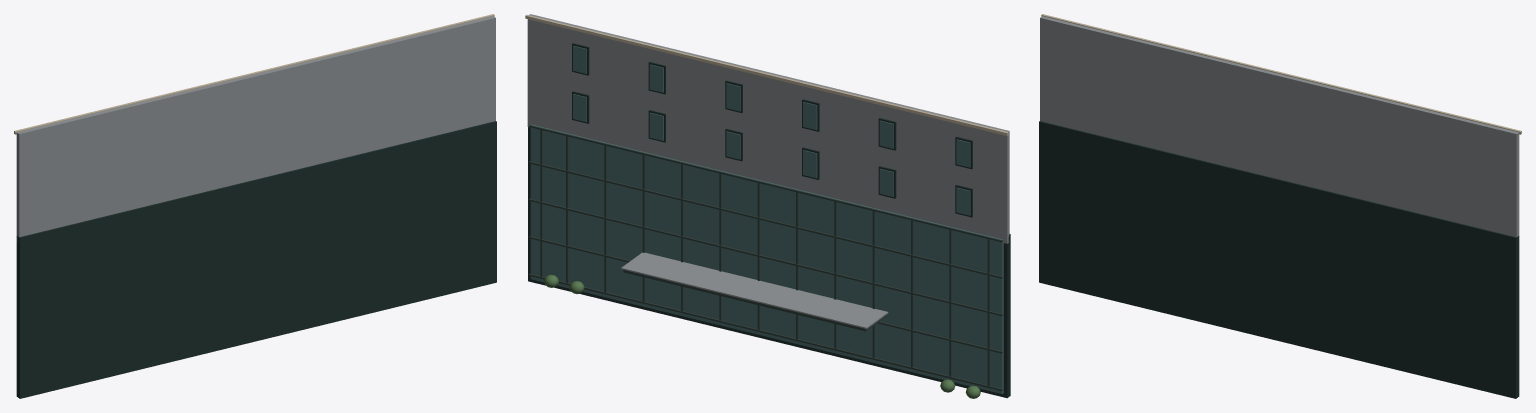
The model's file is tykeson-frontage-overlay-2026-11-04.glb.
3 views of the same model, side by side, from view 1: azimuth 30°, elevation 25°; view 2: azimuth 150°, elevation 25°; view 3: azimuth 330°, elevation 25° (orthographic).
Visible parts, largest first — view 1: tykeson-part-0; view 2: tykeson-part-0, tykeson-part-1; view 3: tykeson-part-0.
Boxes of the visible parts, x1,y1,x2,y2 form: tykeson-part-0: (14, 14, 496, 398); tykeson-part-0: (525, 14, 1010, 398); tykeson-part-1: (544, 274, 980, 398); tykeson-part-0: (1039, 14, 1521, 398).
Size of the model in its own units: 37.7 by 20.21 by 3.55.
